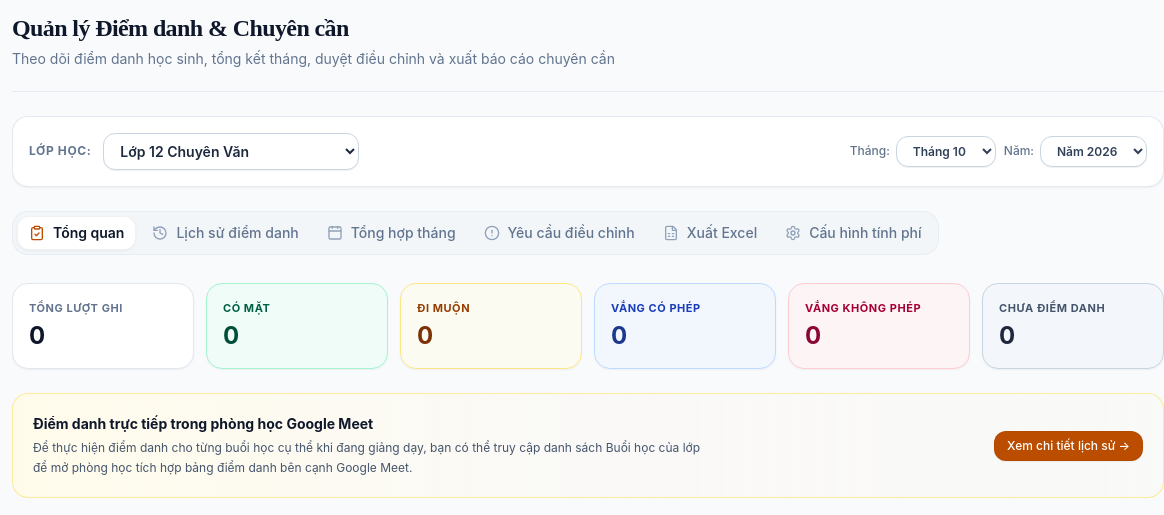
Test case: AttendancePage › switches to Monthly Summary tab and displays monthly table
Click the button "Tổng hợp tháng" at x=391, y=233, box [315,216,468,250]
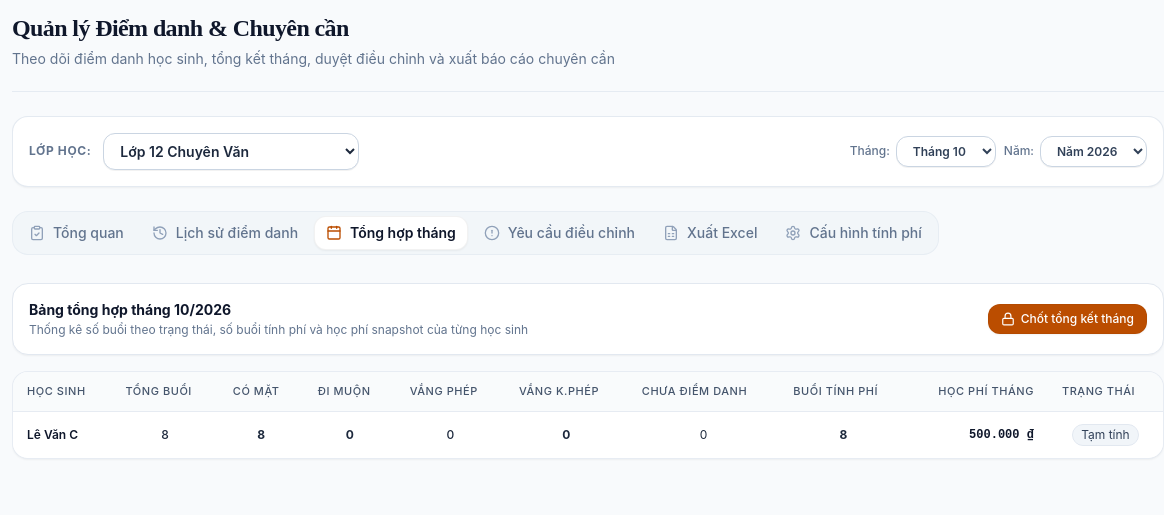
Now the text "Lê Văn C" is shown, box [13,412,111,458]
Now the button "Chốt tổng kết tháng" is shown, box [988,304,1147,334]
